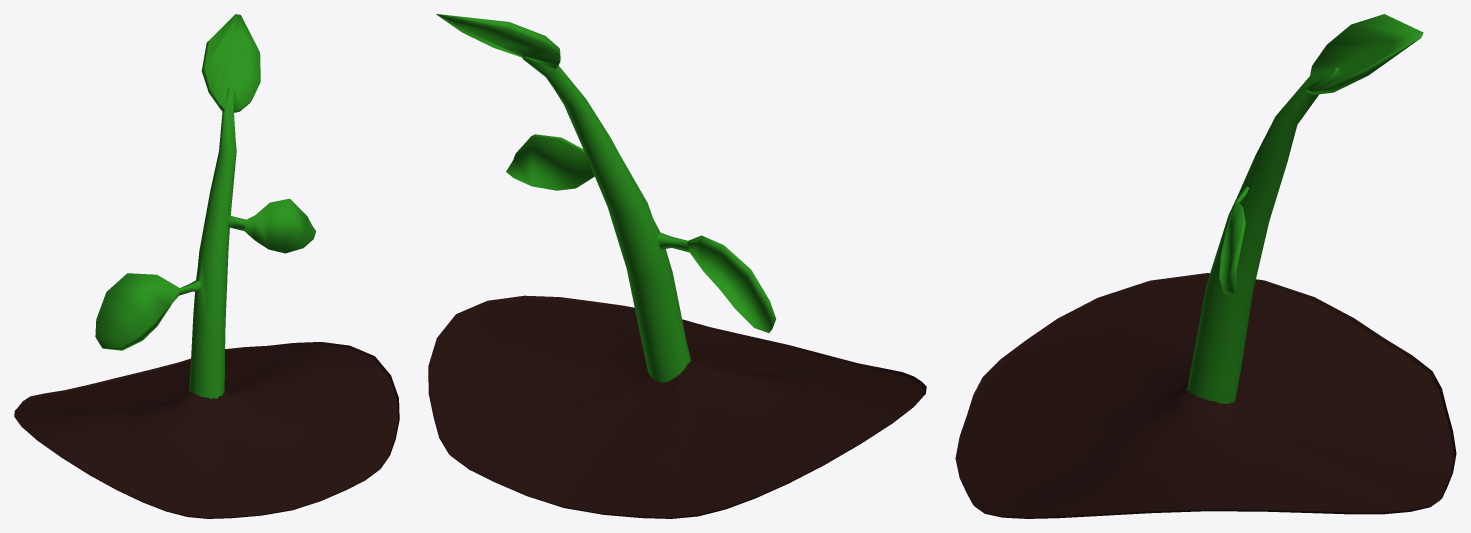
The model's file is plant_earlyVersion.fbx.
3 renders of one model, left to right at view 1: azimuth 30°, elevation 25°; view 2: azimuth 150°, elevation 25°; view 3: azimuth 270°, elevation 25°, orthographic. The views are drawn at different scales.
Visible parts, largest first — view 1: cabeza, Stem; view 2: cabeza, Stem; view 3: cabeza, Stem.
Part boxes in pixels (x1,y1,x2,y2): cabeza: (14, 342, 399, 518); Stem: (95, 14, 315, 398); cabeza: (428, 295, 926, 518); Stem: (436, 14, 775, 382); cabeza: (955, 273, 1456, 518); Stem: (1187, 14, 1423, 403).
Size of the model in its own units: 39.83 by 39.43 by 35.66.
